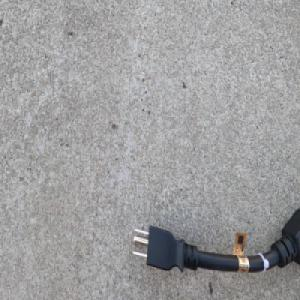Wire: (129, 204, 300, 273)
